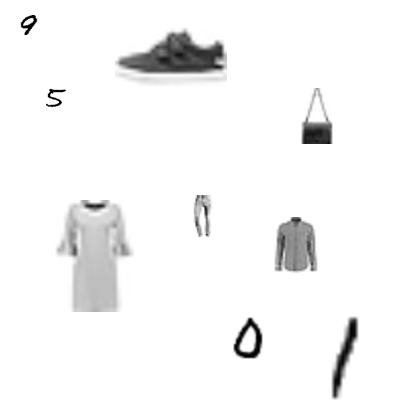0: (220, 312, 276, 368)
1: (285, 298, 397, 410)
5: (40, 83, 68, 111)
9: (14, 9, 42, 37)
Bag: (288, 88, 344, 144)
Dress: (37, 200, 149, 312)
Shirt: (267, 217, 323, 273)
Sneaker: (115, 1, 227, 113)
Trouser: (182, 195, 224, 237)
